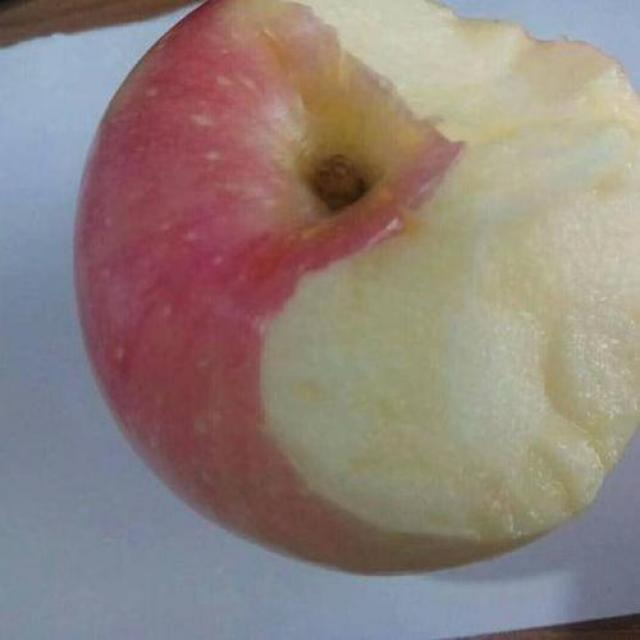Rotten: (68, 0, 640, 570)
